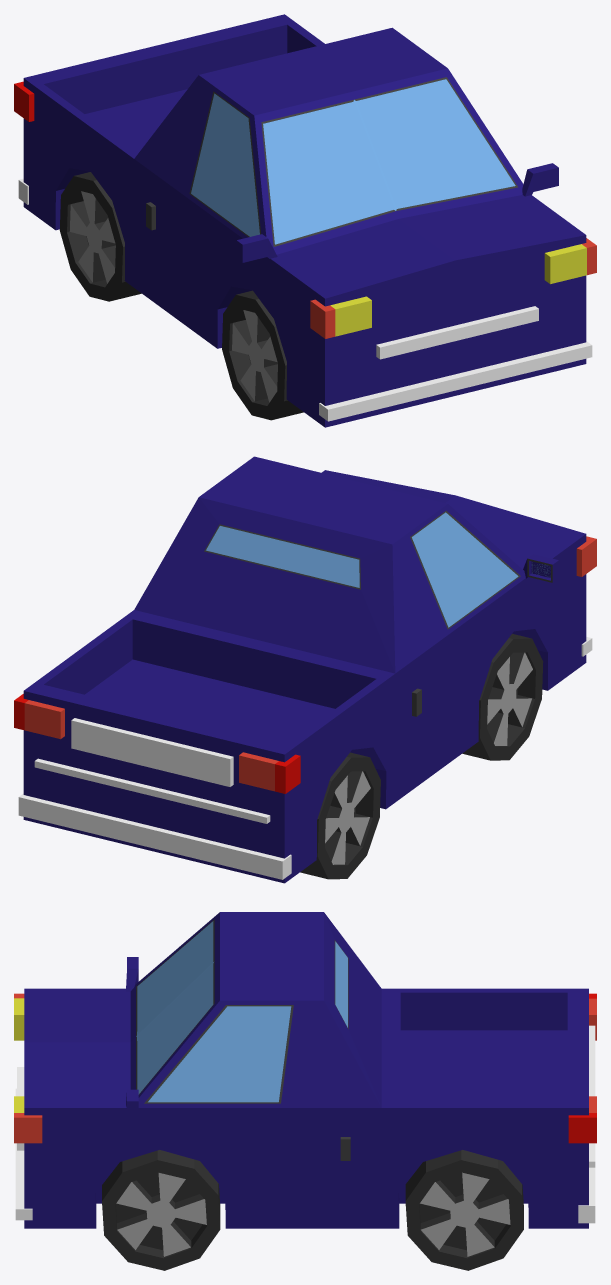
File: Car3(Lvl1).fbx
3 views of the same model, one above another, from view 1: azimuth 30°, elevation 25°; view 2: azimuth 150°, elevation 25°; view 3: azimuth 270°, elevation 25° (orthographic). The views are drawn at different scales.
Parts seen in each view (by area): view 1: Cube, Cube.001; view 2: Cube, Cube.001; view 3: Cube, Cube.001.
Part boxes in pixels (left/top/right/bottom): Cube: left=14, top=14, right=596, bottom=427; Cube.001: left=59, top=172, right=303, bottom=420; Cube: left=14, top=456, right=596, bottom=883; Cube.001: left=300, top=633, right=543, bottom=879; Cube: left=14, top=912, right=596, bottom=1228; Cube.001: left=102, top=1150, right=523, bottom=1270.
Bounding box in the file's own units: 242 × 198 × 413.
